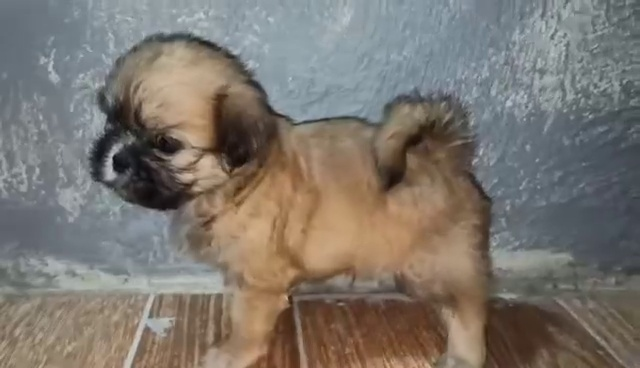dog: (91, 33, 490, 368)
